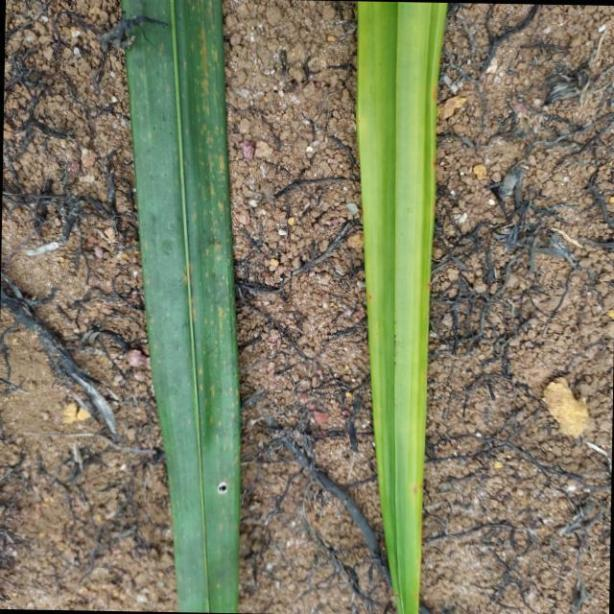nitrogen: (117, 0, 243, 614), (360, 3, 446, 614)
